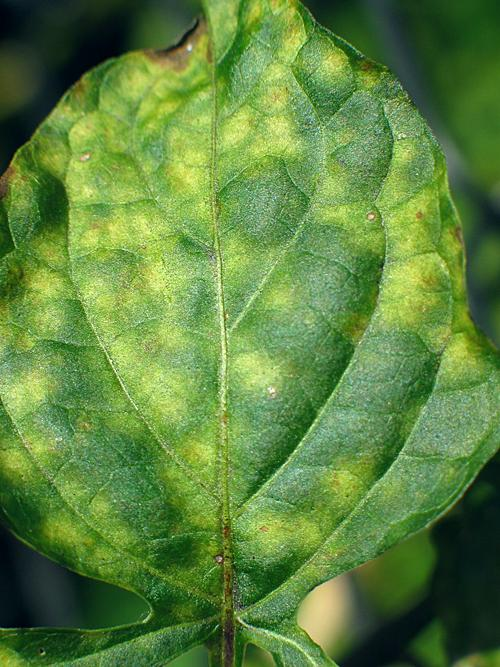Tomato mold leaf: (3, 6, 499, 667)
